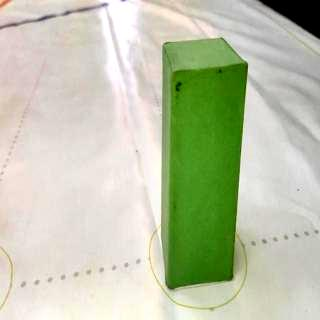greenbox: (162, 36, 247, 290)
